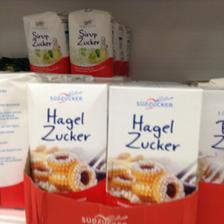Zucker: (103, 80, 201, 204), (28, 78, 108, 202), (67, 7, 113, 79), (21, 9, 69, 75)
